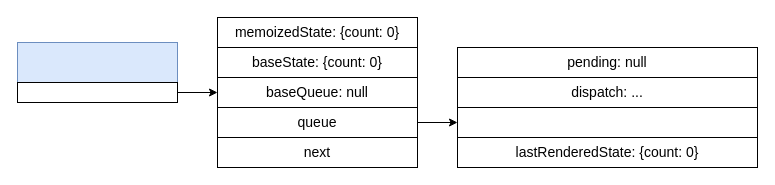
Image size: 775x185. Some labels were removed from this diagram. Here are the shapes that lost their labels. From the top down, the centre of each, then its label:
At pixel 97 62: "App".
At pixel 97 92: "memoizedState".
At pixel 607 122: "lastRenderedReducer: myReducer".
